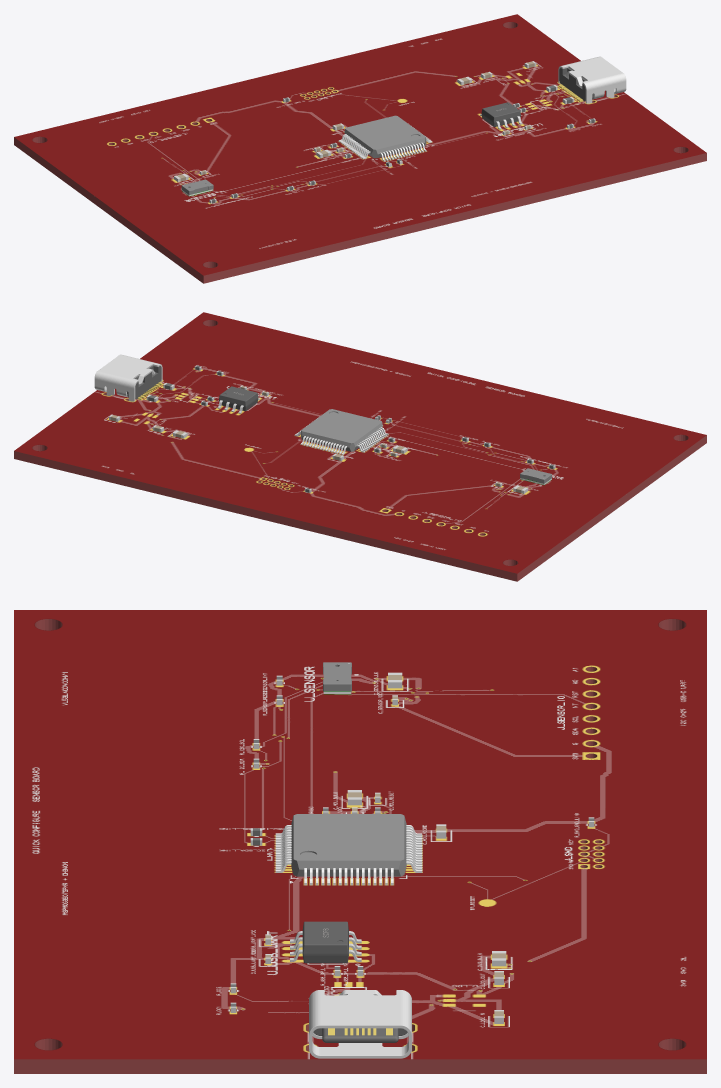
The picture shows the model from 3 angles, top to bottom: view 1: azimuth 30°, elevation 25°; view 2: azimuth 150°, elevation 25°; view 3: azimuth 270°, elevation 25°; orthographic projection. The views are drawn at different scales.
Visible parts, largest first — view 1: Box0, U_MAIN, J_USB, U_USB_UART; view 2: Box0, U_MAIN, J_USB, U_USB_UART; view 3: Box0, U_MAIN, J_USB, U_USB_UART, U_SENSOR.
Boxes of the visible parts, x1,y1,x2,y2 form: Box0: (14,14,706,283); U_MAIN: (338,115,432,161); J_USB: (558,56,626,103); U_USB_UART: (480,102,522,129); Box0: (14,312,706,581); U_MAIN: (294,409,388,454); J_USB: (94,354,162,401); U_USB_UART: (217,386,259,413); Box0: (14,610,706,1073); U_MAIN: (275,814,422,885); J_USB: (309,990,411,1058); U_USB_UART: (290,921,361,963); U_SENSOR: (323,662,351,694).
Size of the model in its own units: 92.04 by 4.65 by 60.
Materials: 23 (2 with a texture image).
